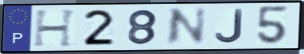2: (82, 9, 118, 47)
5: (254, 5, 291, 48)
8: (126, 8, 159, 47)
H: (32, 8, 80, 49)
J: (214, 8, 245, 45)
N: (164, 6, 209, 48)
